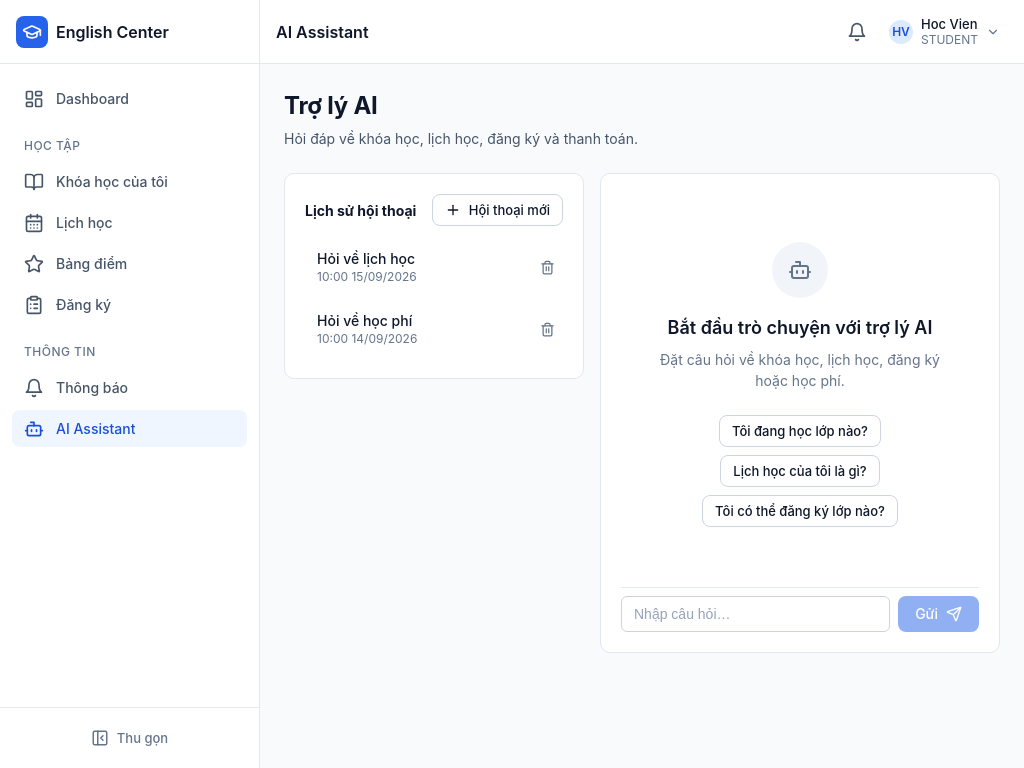
Test: AiChatPage › keeps history sidebar when conversation detail returns 404
The image size is (1024, 768).
Click the button "Hỏi về lịch học 10:00 15/09/2026". click: click(416, 267)
box: [305,238,527,296]
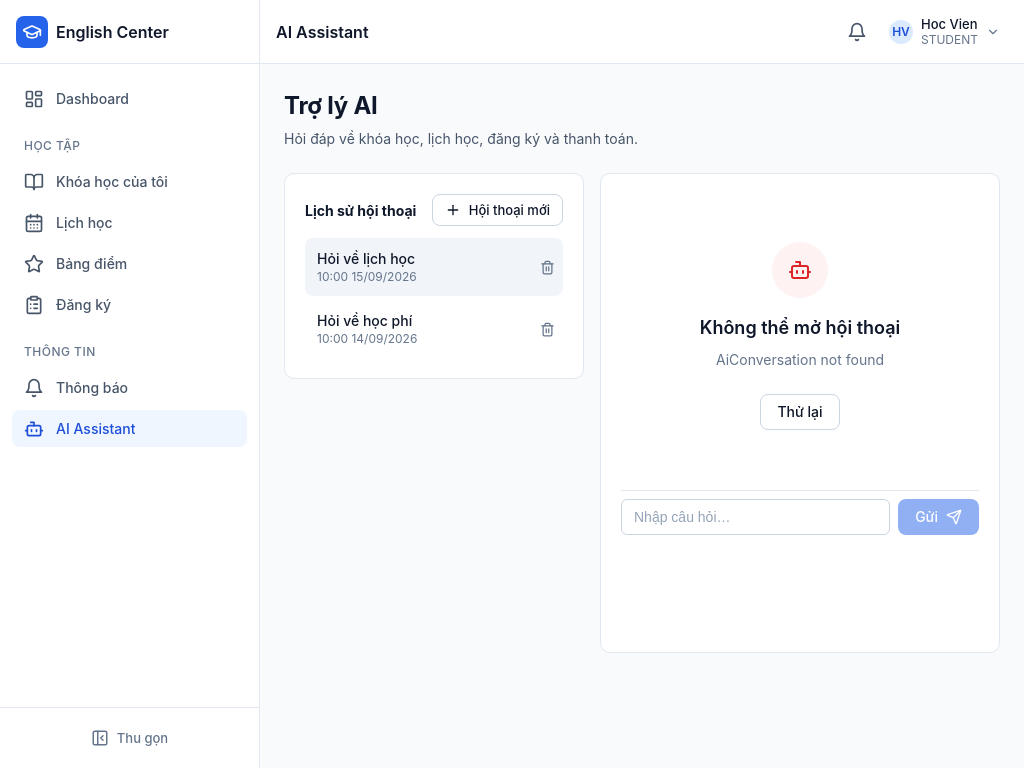
Check: the heading "Không thể mở hội thoại" is shown, box [700,314,900,341]
